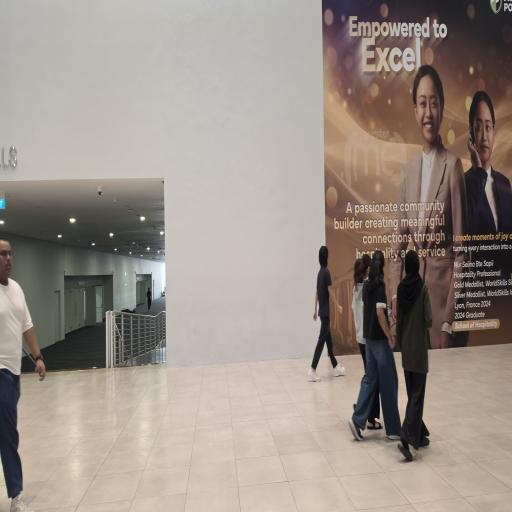person_right: (0, 222, 48, 508), (389, 245, 433, 459), (360, 256, 398, 437), (350, 249, 382, 430), (313, 234, 348, 392)
